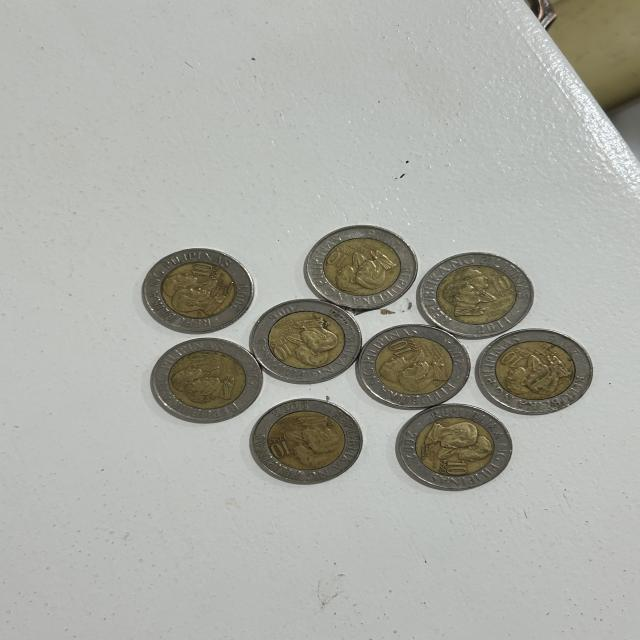10_Old_Front: (486, 272, 525, 301), (263, 433, 298, 460), (437, 457, 473, 480), (495, 346, 525, 372), (184, 351, 217, 372), (188, 261, 216, 285), (268, 336, 292, 362), (325, 246, 351, 269), (386, 339, 416, 358)
